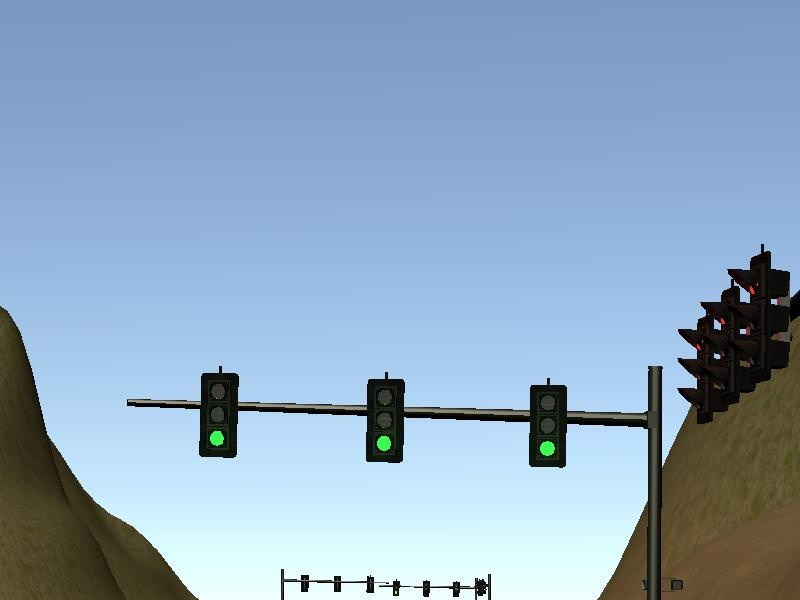green: (194, 368, 243, 462), (363, 374, 408, 467), (525, 378, 569, 470)
